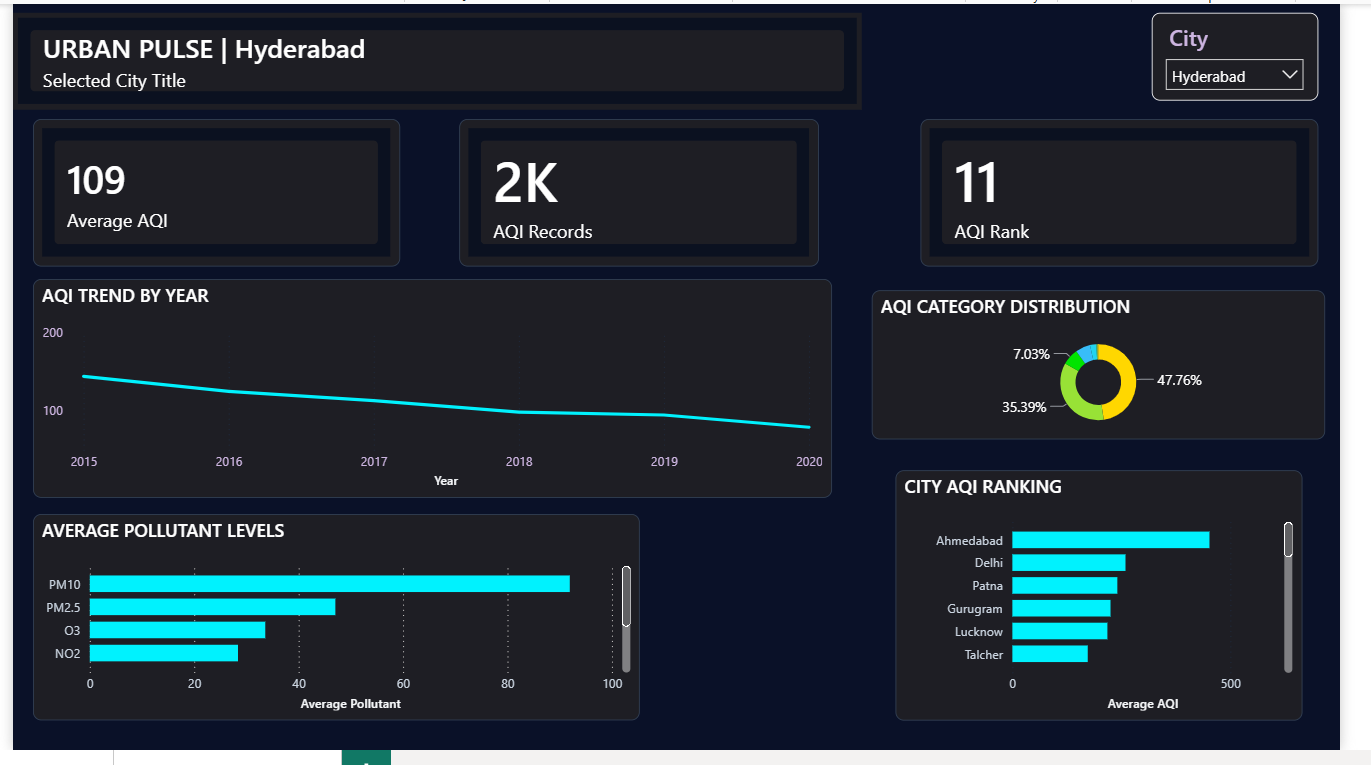

What the dashboard file says about the page in this screenshot:
{"tool":"powerbi","page":{"name":"URBAN PULSE","canvas":[1280,720],"ordinal":0},"visuals":[{"type":"lineChart","title":"AQI TREND BY YEAR","fields":{"Category":["Dim_Date.Year"],"Y":["fact_airquality.Average AQI"]},"box":[19.2,264.8,771.2,211.3],"z":0},{"type":"slicer","fields":{"Values":["dim_city.City"]},"box":[1099.1,8.2,160.5,85.1],"z":1000},{"type":"cardVisual","fields":{"Data":["fact_airquality.Average AQI"]},"box":[19.2,111.1,354,142.7],"z":2000},{"type":"cardVisual","fields":{"Data":["fact_airquality.AQI Records"]},"box":[430.9,111.1,347.2,142.7],"z":3000},{"type":"cardVisual","fields":{"Data":["fact_airquality.AQI Rank"]},"box":[875.5,111.1,384.2,142.7],"z":4000},{"type":"cardVisual","fields":{"Data":["fact_airquality.Selected City Title"]},"box":[0,8.2,819.2,93.3],"z":5000},{"type":"donutChart","title":"AQI CATEGORY DISTRIBUTION","fields":{"Category":["fact_airquality.AQI_Bucket"],"Y":["fact_airquality.AQI Records"]},"box":[828.8,275.8,437.7,144.1],"z":6000},{"type":"barChart","title":"CITY AQI RANKING","fields":{"Category":["dim_city.City"],"Y":["fact_airquality.Average AQI"]},"box":[852.1,450.1,392.5,241.5],"z":7000},{"type":"clusteredBarChart","title":"AVERAGE POLLUTANT LEVELS","fields":{"Category":["Pollutant.Pollutant"],"Y":["fact_airquality.Average Pollutant"]},"box":[19.2,492.6,585.9,199],"z":8000}]}

Visuals, with their boxes in screenshot pixels (x1, y1, x2, y2), scaled from the page's 1280x720 canvas onto the 1371x765 screenshot:
"AQI TREND BY YEAR" lineChart: Rect(21, 281, 847, 506)
slicer - dim_city.City: Rect(1177, 9, 1349, 99)
cardVisual - fact_airquality.Average AQI: Rect(21, 118, 400, 270)
cardVisual - fact_airquality.AQI Records: Rect(462, 118, 833, 270)
cardVisual - fact_airquality.AQI Rank: Rect(938, 118, 1349, 270)
cardVisual - fact_airquality.Selected City Title: Rect(0, 9, 877, 108)
"AQI CATEGORY DISTRIBUTION" donutChart: Rect(888, 293, 1357, 446)
"CITY AQI RANKING" barChart: Rect(913, 478, 1333, 735)
"AVERAGE POLLUTANT LEVELS" clusteredBarChart: Rect(21, 523, 648, 735)
